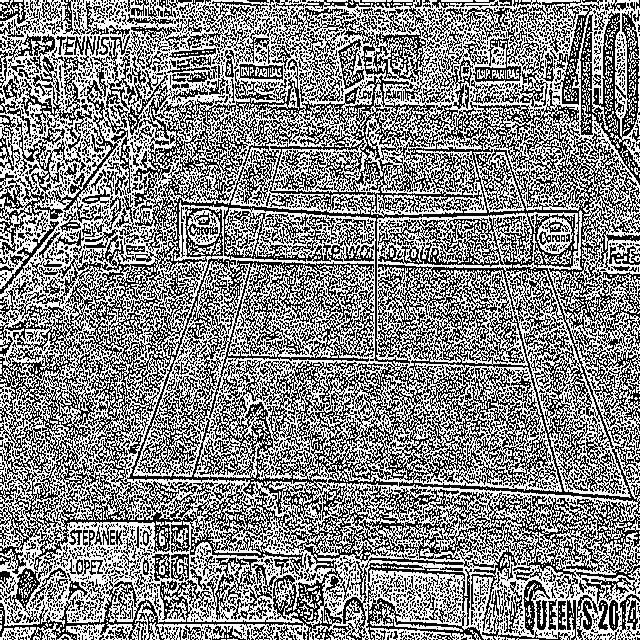left side: (472, 150, 632, 499), (131, 146, 282, 478)
player: (238, 387, 284, 512), (356, 104, 386, 189)
